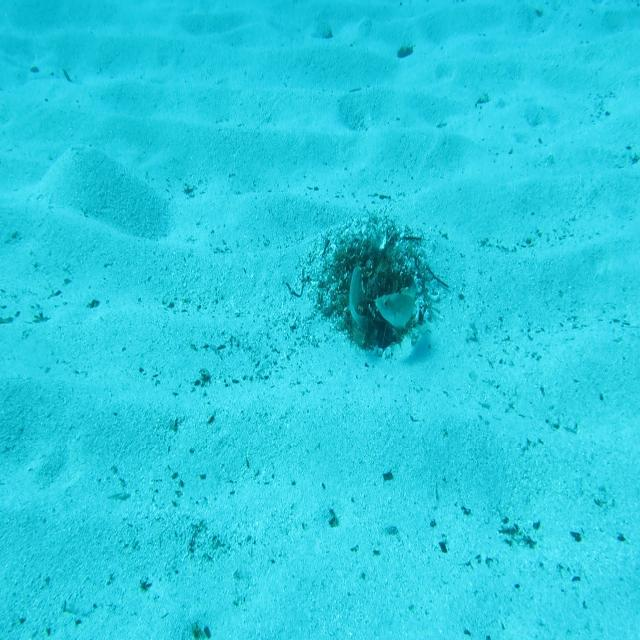DAN_CIRC: (375, 279, 418, 332)
female: (348, 265, 370, 336)
nest: (316, 212, 436, 348)
